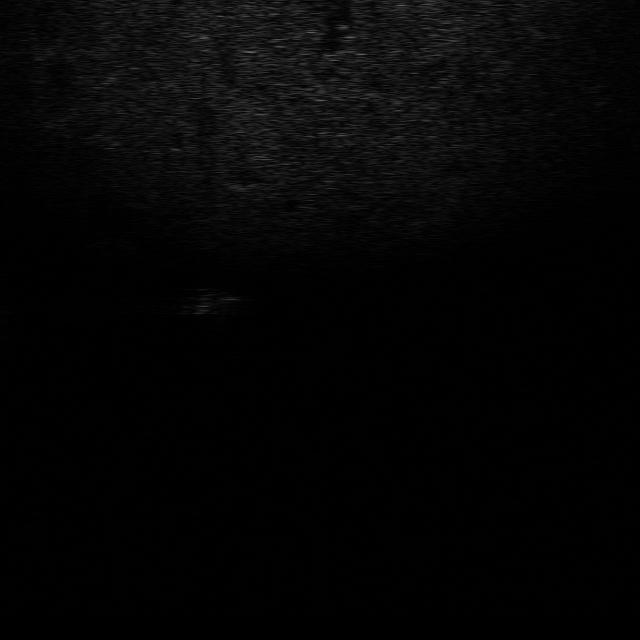human body: (180, 282, 236, 320)
